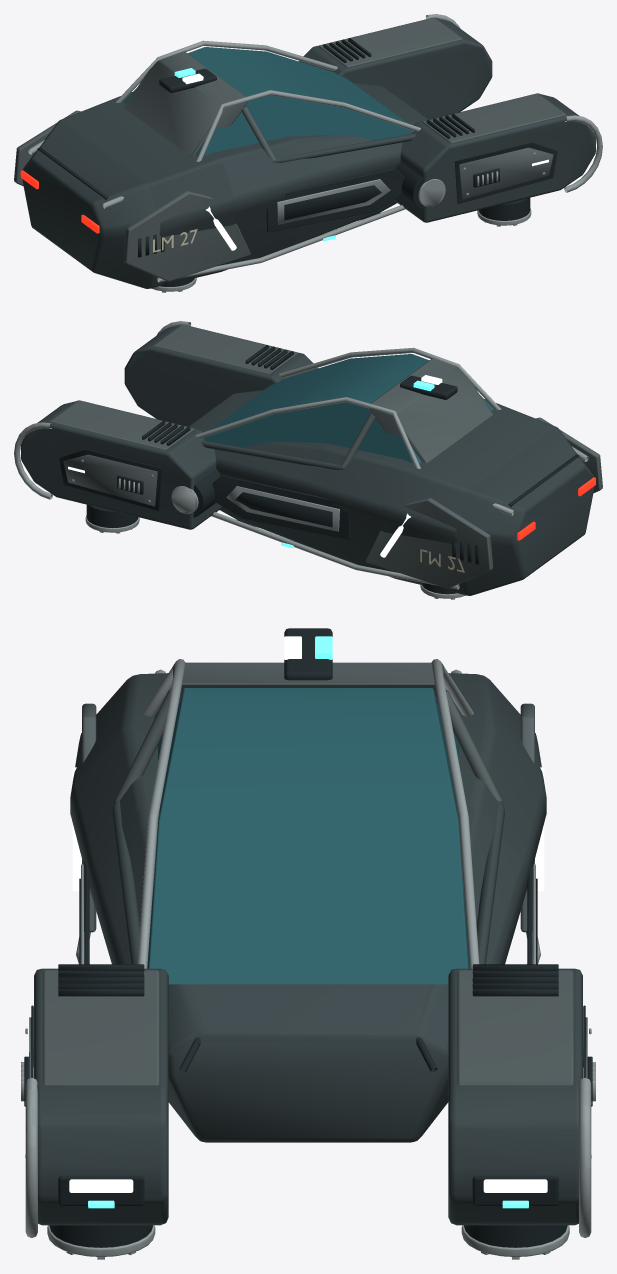
Rendered from spinner.glb.
3 views of the same model, one above another, from view 1: azimuth 30°, elevation 25°; view 2: azimuth 150°, elevation 25°; view 3: azimuth 270°, elevation 25° (orthographic). The views are drawn at different scales.
Parts seen in each view (by area): view 1: Spinner_Weathered_graphite, Spinner_Raised_armour, Spinner_Deep_petrol_canopy, Spinner_Recessed_mechanics, Spinner_Brushed_titanium, Spinner_Warm_headlights; view 2: Spinner_Weathered_graphite, Spinner_Raised_armour, Spinner_Deep_petrol_canopy, Spinner_Recessed_mechanics, Spinner_Brushed_titanium, Spinner_Warm_headlights; view 3: Spinner_Weathered_graphite, Spinner_Deep_petrol_canopy, Spinner_Raised_armour, Spinner_Recessed_mechanics, Spinner_Brushed_titanium, Spinner_Warm_headlights, Spinner_Cool_running_lights.
Part boxes in pixels (x1,y1,x2,y2): Spinner_Weathered_graphite: [22, 17, 595, 288]; Spinner_Raised_armour: [14, 18, 566, 281]; Spinner_Deep_petrol_canopy: [123, 47, 413, 156]; Spinner_Recessed_mechanics: [37, 38, 557, 286]; Spinner_Brushed_titanium: [28, 14, 602, 292]; Spinner_Warm_headlights: [182, 73, 548, 250]; Spinner_Weathered_graphite: [21, 324, 594, 595]; Spinner_Raised_armour: [50, 325, 602, 588]; Spinner_Deep_petrol_canopy: [203, 354, 493, 463]; Spinner_Recessed_mechanics: [59, 345, 579, 594]; Spinner_Brushed_titanium: [14, 321, 588, 599]; Spinner_Warm_headlights: [68, 375, 442, 557]; Spinner_Weathered_graphite: [34, 673, 582, 1225]; Spinner_Deep_petrol_canopy: [147, 688, 469, 984]; Spinner_Raised_armour: [29, 662, 587, 1085]; Spinner_Recessed_mechanics: [24, 628, 592, 1247]; Spinner_Brushed_titanium: [21, 659, 595, 1259]; Spinner_Warm_headlights: [69, 636, 547, 1192]; Spinner_Cool_running_lights: [88, 636, 528, 1208].
Bounding box in the file's own units: 4.98 × 1.72 × 2.61.
